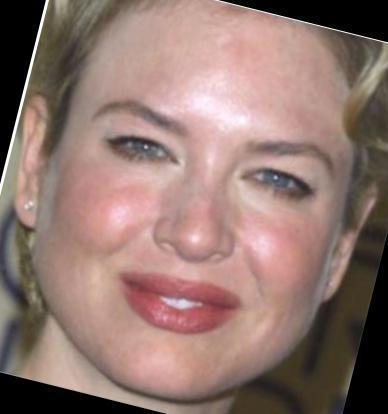Drunk: (66, 10, 345, 392)
